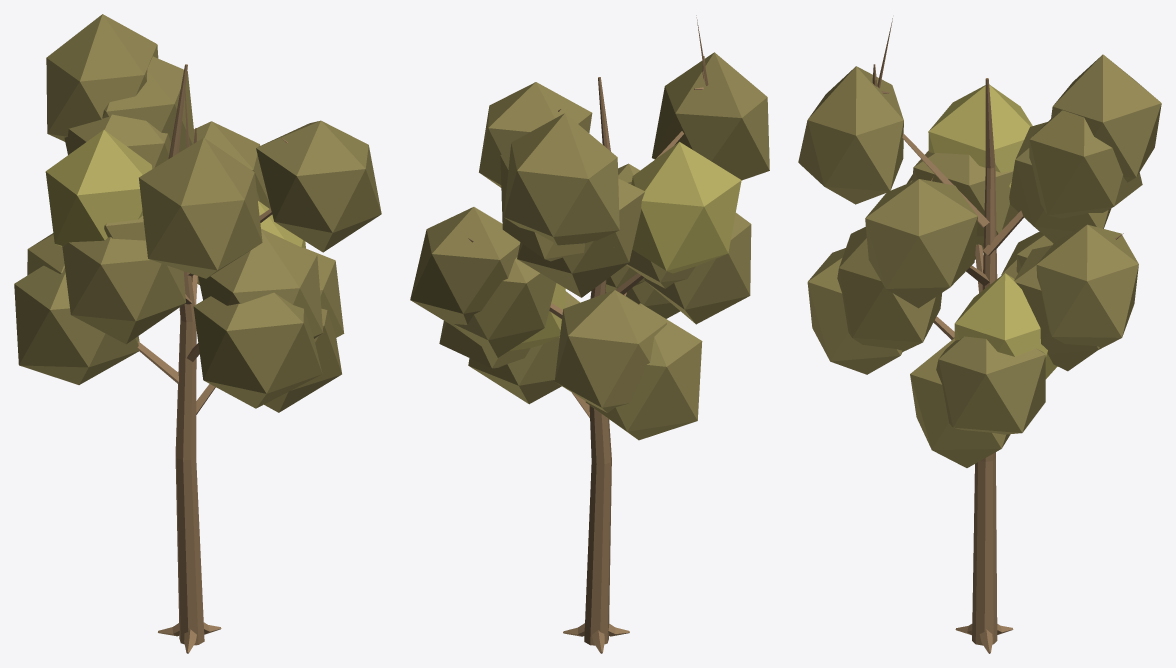
The model's file is oak_autumn_early_02.glb.
3 renders of one model, left to right at view 1: azimuth 30°, elevation 25°; view 2: azimuth 150°, elevation 25°; view 3: azimuth 270°, elevation 25°, orthographic. The views are drawn at different scales.
Visible parts, largest first — view 1: Oak_autumn_early_02; view 2: Oak_autumn_early_02; view 3: Oak_autumn_early_02.
Boxes of the visible parts, x1=… form: Oak_autumn_early_02: x1=14, y1=14, x2=381, y2=653; Oak_autumn_early_02: x1=410, y1=15, x2=769, y2=653; Oak_autumn_early_02: x1=798, y1=18, x2=1161, y2=653.
Size of the model in its own units: 8.55 by 17.81 by 9.76.
